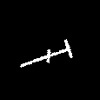double_crochet: (20, 39, 71, 66)
